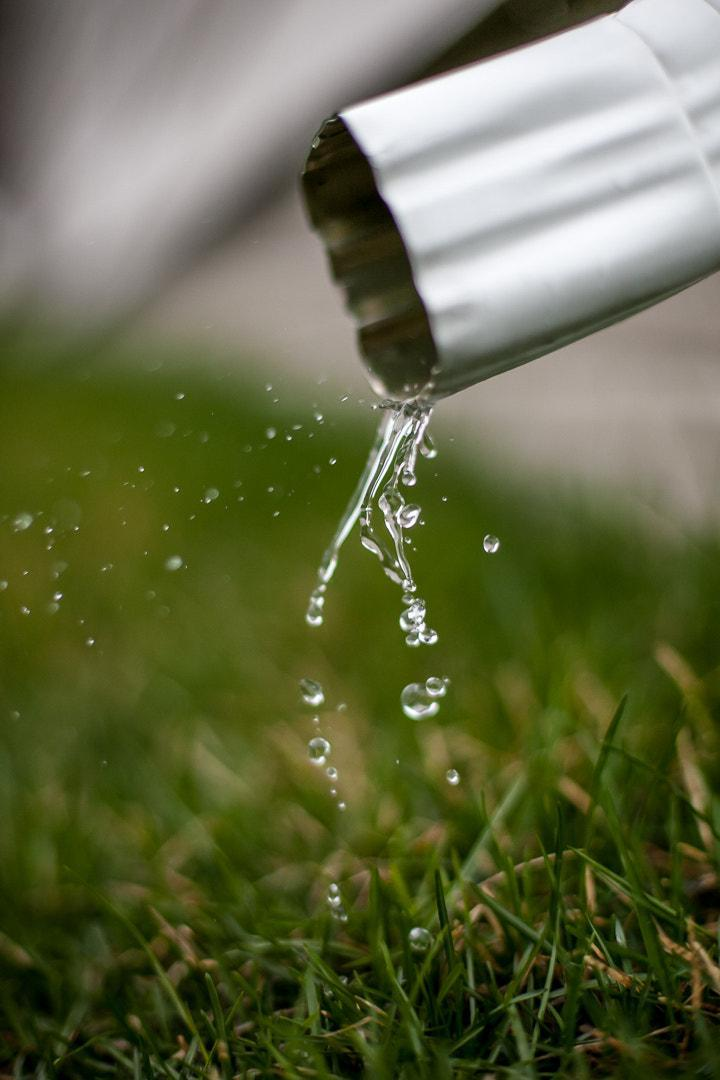water drop: (398, 684, 442, 718), (298, 673, 328, 709), (406, 926, 432, 948), (305, 735, 324, 765)
